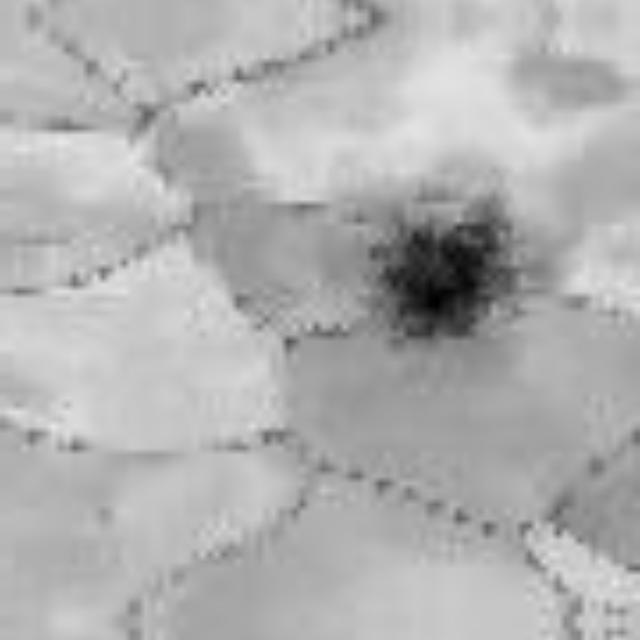good_void: (367, 195, 536, 352)
